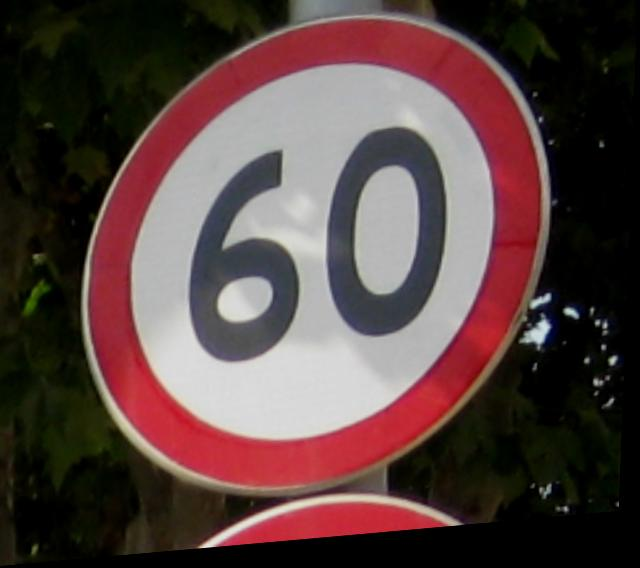limit60: (63, 0, 577, 526)
